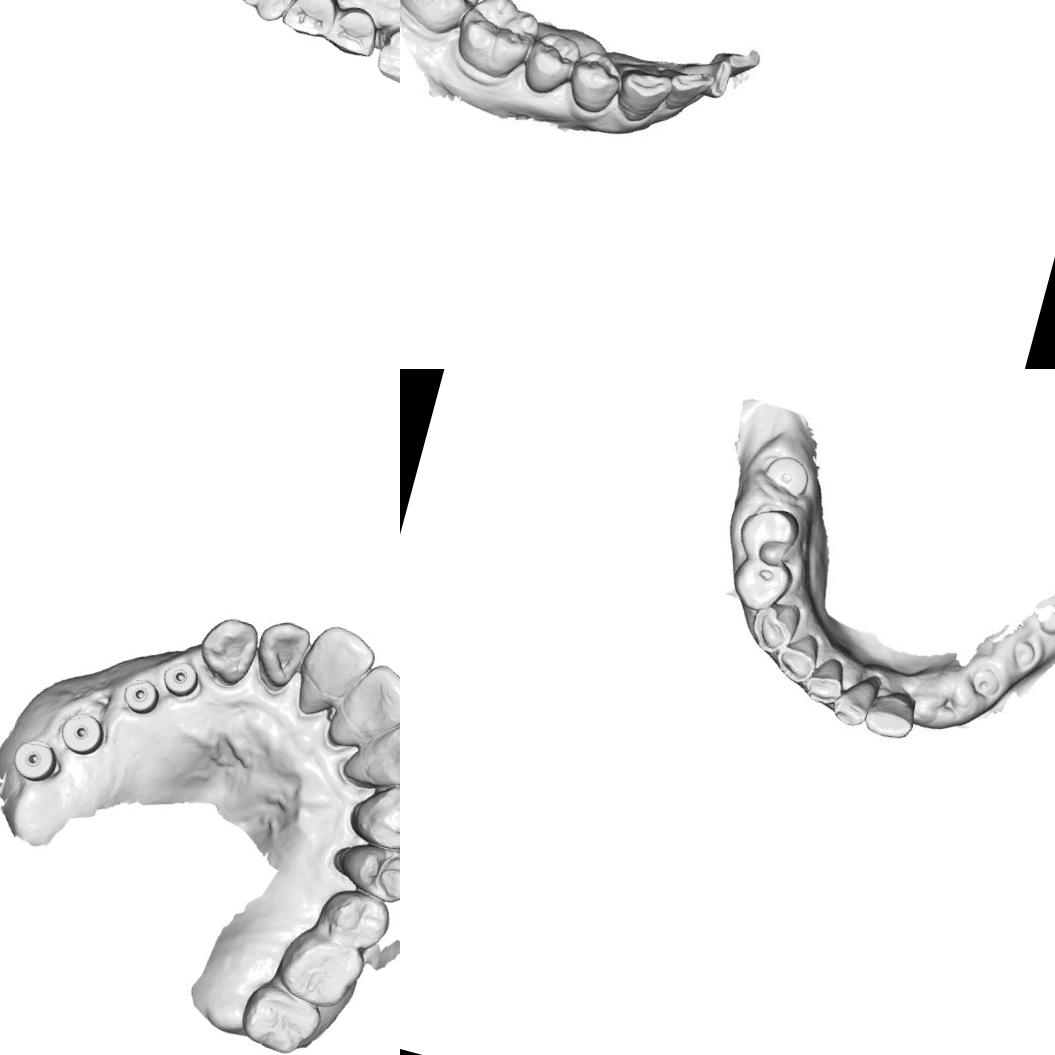canine: (192, 610, 264, 690), (342, 771, 400, 855), (613, 58, 672, 130), (371, 20, 400, 92)
implant: (756, 448, 818, 506), (7, 732, 66, 788), (52, 707, 110, 760), (156, 656, 204, 702), (118, 674, 163, 718), (966, 660, 1005, 702), (1004, 634, 1044, 671)
incisor: (292, 618, 380, 720), (246, 614, 314, 698), (338, 655, 400, 744), (652, 58, 716, 126), (745, 598, 803, 660), (359, 713, 400, 794), (866, 683, 920, 740), (835, 671, 878, 726), (802, 654, 849, 704), (777, 630, 819, 680)
molar: (442, 0, 546, 89), (270, 925, 369, 1014), (234, 980, 326, 1055), (400, 0, 487, 43)
premolar: (312, 881, 397, 953), (324, 831, 400, 908), (516, 22, 587, 102), (559, 42, 630, 120), (730, 551, 798, 616), (737, 503, 802, 565), (325, 0, 383, 60), (278, 0, 344, 42), (230, 0, 310, 28)
